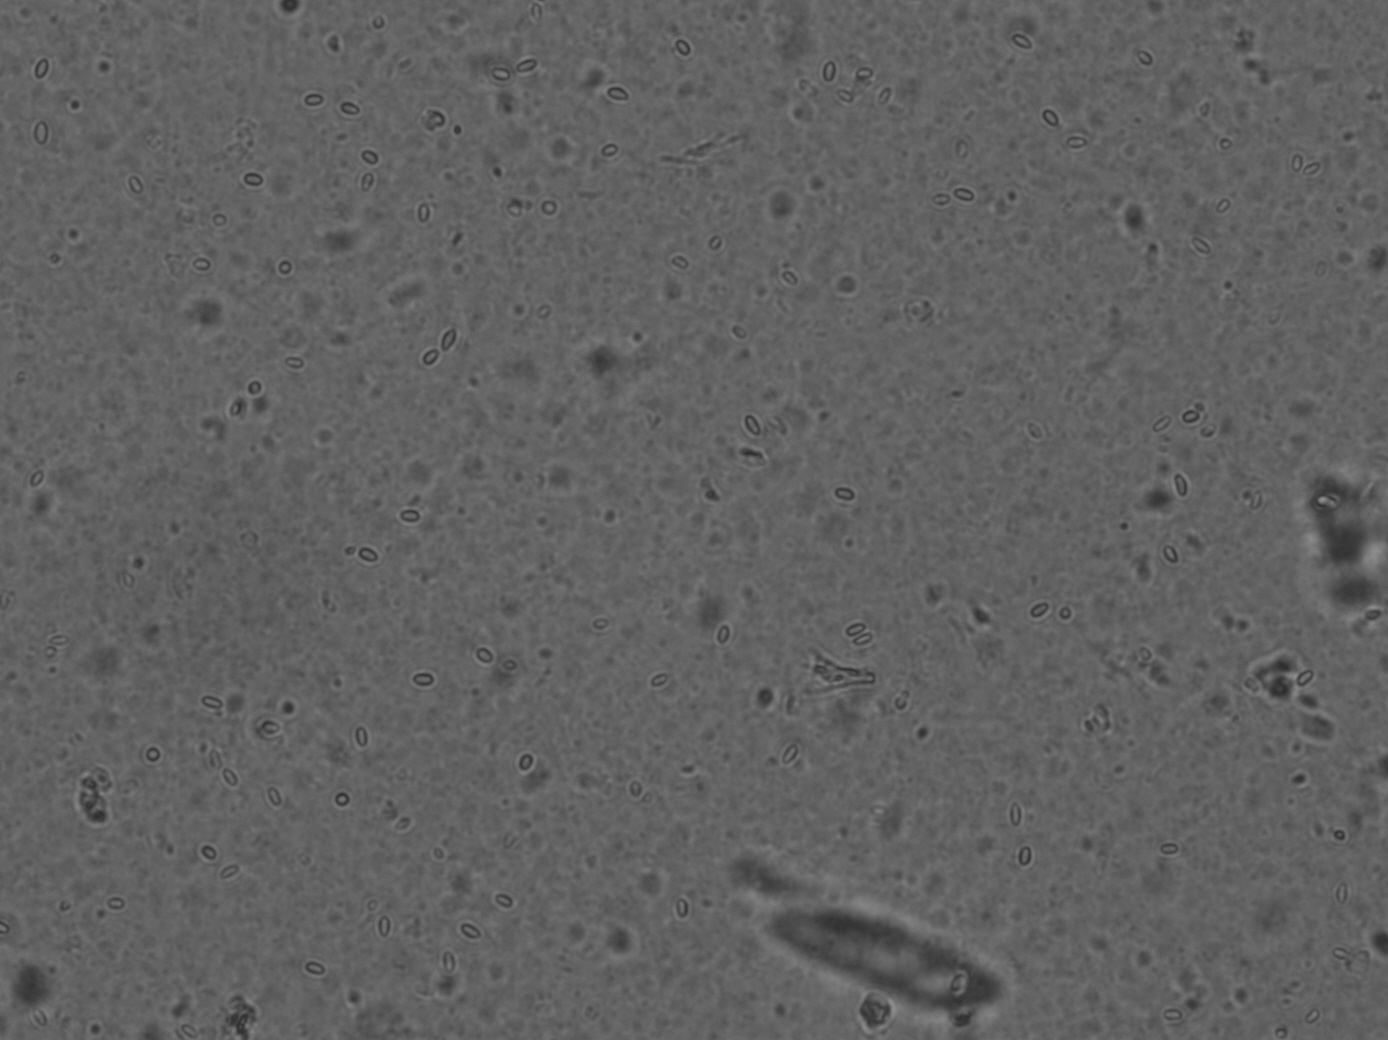spore: (363, 152, 377, 165), (676, 40, 689, 54), (424, 353, 437, 365), (823, 67, 835, 80), (850, 623, 863, 635), (336, 794, 349, 806), (1032, 605, 1044, 617), (1300, 673, 1312, 685), (416, 674, 428, 686), (1037, 604, 1049, 616), (304, 94, 316, 106), (476, 649, 488, 661), (422, 674, 434, 686), (364, 552, 377, 563), (146, 752, 159, 763), (745, 423, 758, 434), (205, 847, 216, 860), (312, 94, 323, 106), (606, 144, 617, 156), (719, 630, 729, 642), (494, 69, 506, 80), (249, 381, 261, 392), (962, 189, 973, 201), (954, 188, 965, 200), (1047, 111, 1058, 123), (277, 265, 290, 275), (1187, 413, 1198, 424), (521, 59, 532, 70), (346, 104, 357, 115), (251, 173, 262, 184), (244, 173, 254, 184), (1041, 110, 1052, 121), (35, 69, 47, 79), (442, 338, 454, 347), (519, 761, 532, 770), (311, 962, 322, 972), (355, 736, 366, 746), (407, 511, 418, 521), (35, 129, 46, 139), (842, 492, 853, 501), (34, 475, 44, 486), (340, 103, 349, 114), (305, 961, 315, 972), (1177, 486, 1188, 496), (225, 771, 236, 781), (200, 259, 210, 270), (1138, 51, 1149, 61), (1020, 856, 1032, 865), (1161, 847, 1173, 855), (1163, 554, 1175, 563), (676, 48, 688, 57), (711, 240, 723, 249), (1303, 164, 1313, 174), (1182, 414, 1191, 424), (652, 676, 662, 686), (659, 676, 668, 686), (1309, 1013, 1319, 1023), (500, 69, 510, 79), (468, 927, 478, 937), (226, 867, 236, 877), (601, 145, 610, 155), (216, 215, 226, 225), (833, 492, 843, 501), (788, 754, 799, 763), (1292, 163, 1303, 172), (209, 700, 220, 709), (607, 87, 618, 96), (894, 701, 905, 710), (745, 416, 756, 425), (1059, 613, 1070, 622), (1310, 163, 1319, 174), (1137, 58, 1148, 67), (372, 19, 383, 27), (851, 634, 863, 641), (857, 69, 869, 76), (1161, 843, 1173, 851), (1015, 42, 1027, 49), (859, 634, 869, 642), (782, 754, 792, 763), (1153, 423, 1163, 432), (36, 137, 46, 145), (607, 93, 617, 102), (381, 927, 391, 936), (677, 909, 687, 918), (1067, 138, 1077, 146), (546, 206, 556, 215), (233, 406, 242, 415), (1162, 1013, 1172, 1021), (401, 511, 410, 521), (1223, 139, 1233, 147), (364, 182, 375, 190), (1168, 555, 1179, 563), (937, 199, 948, 206), (357, 554, 368, 562), (842, 94, 851, 103), (417, 215, 427, 223), (252, 180, 262, 188), (632, 789, 642, 796), (364, 174, 373, 181), (242, 181, 253, 188), (1041, 120, 1052, 127), (1018, 858, 1025, 866), (617, 87, 626, 95), (1217, 208, 1226, 214), (541, 208, 548, 215), (618, 95, 627, 102), (52, 645, 60, 649)
